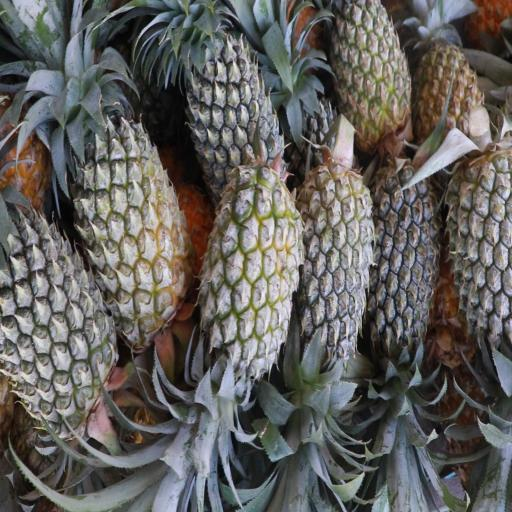------------------------------: (78, 92, 187, 330), (204, 169, 299, 415), (332, 0, 405, 145), (416, 22, 485, 155)
